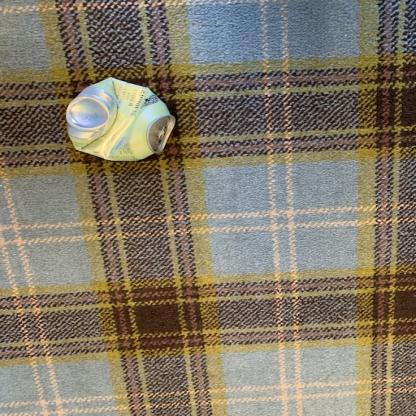trash: (64, 77, 177, 163)
